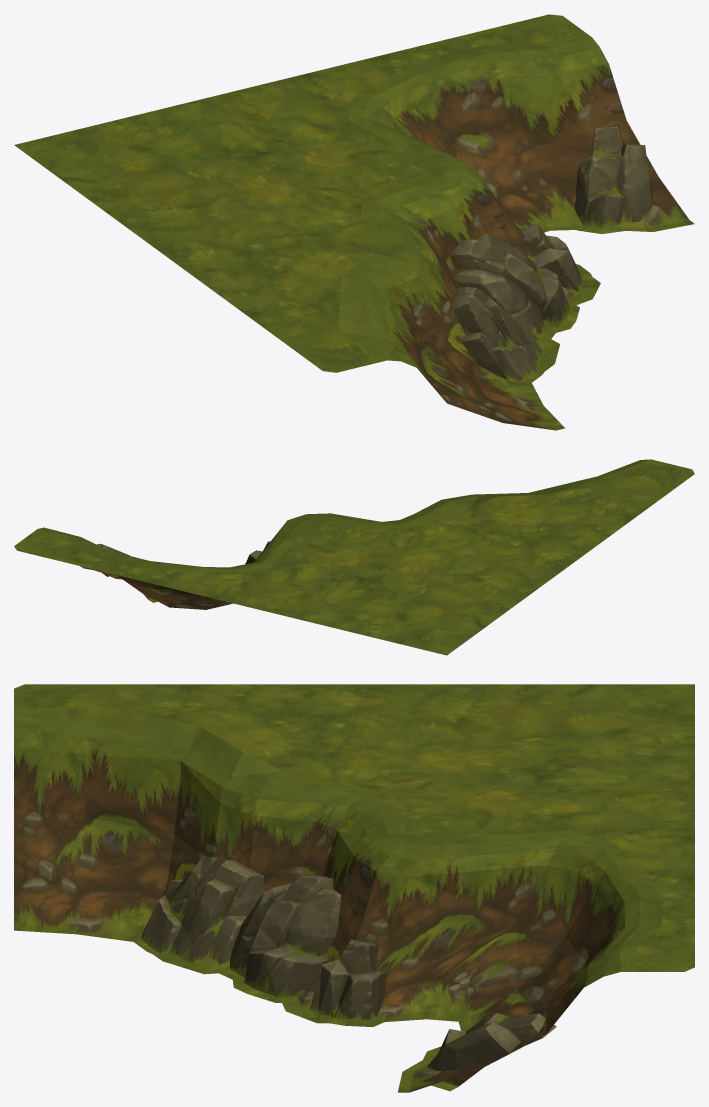
File: tundra_concave_basecap01.fbx
3 views of the same model, one above another, from view 1: azimuth 30°, elevation 25°; view 2: azimuth 150°, elevation 25°; view 3: azimuth 270°, elevation 25° (orthographic). The views are drawn at different scales.
Parts seen in each view (by area): view 1: obj4; view 2: obj4; view 3: obj4.
Boxes of the visible parts, x1=… form: obj4: x1=14, y1=14, x2=694, y2=430; obj4: x1=14, y1=459, x2=694, y2=655; obj4: x1=14, y1=684, x2=694, y2=1092.
Size of the model in its own units: 20.33 by 4.38 by 20.33.
